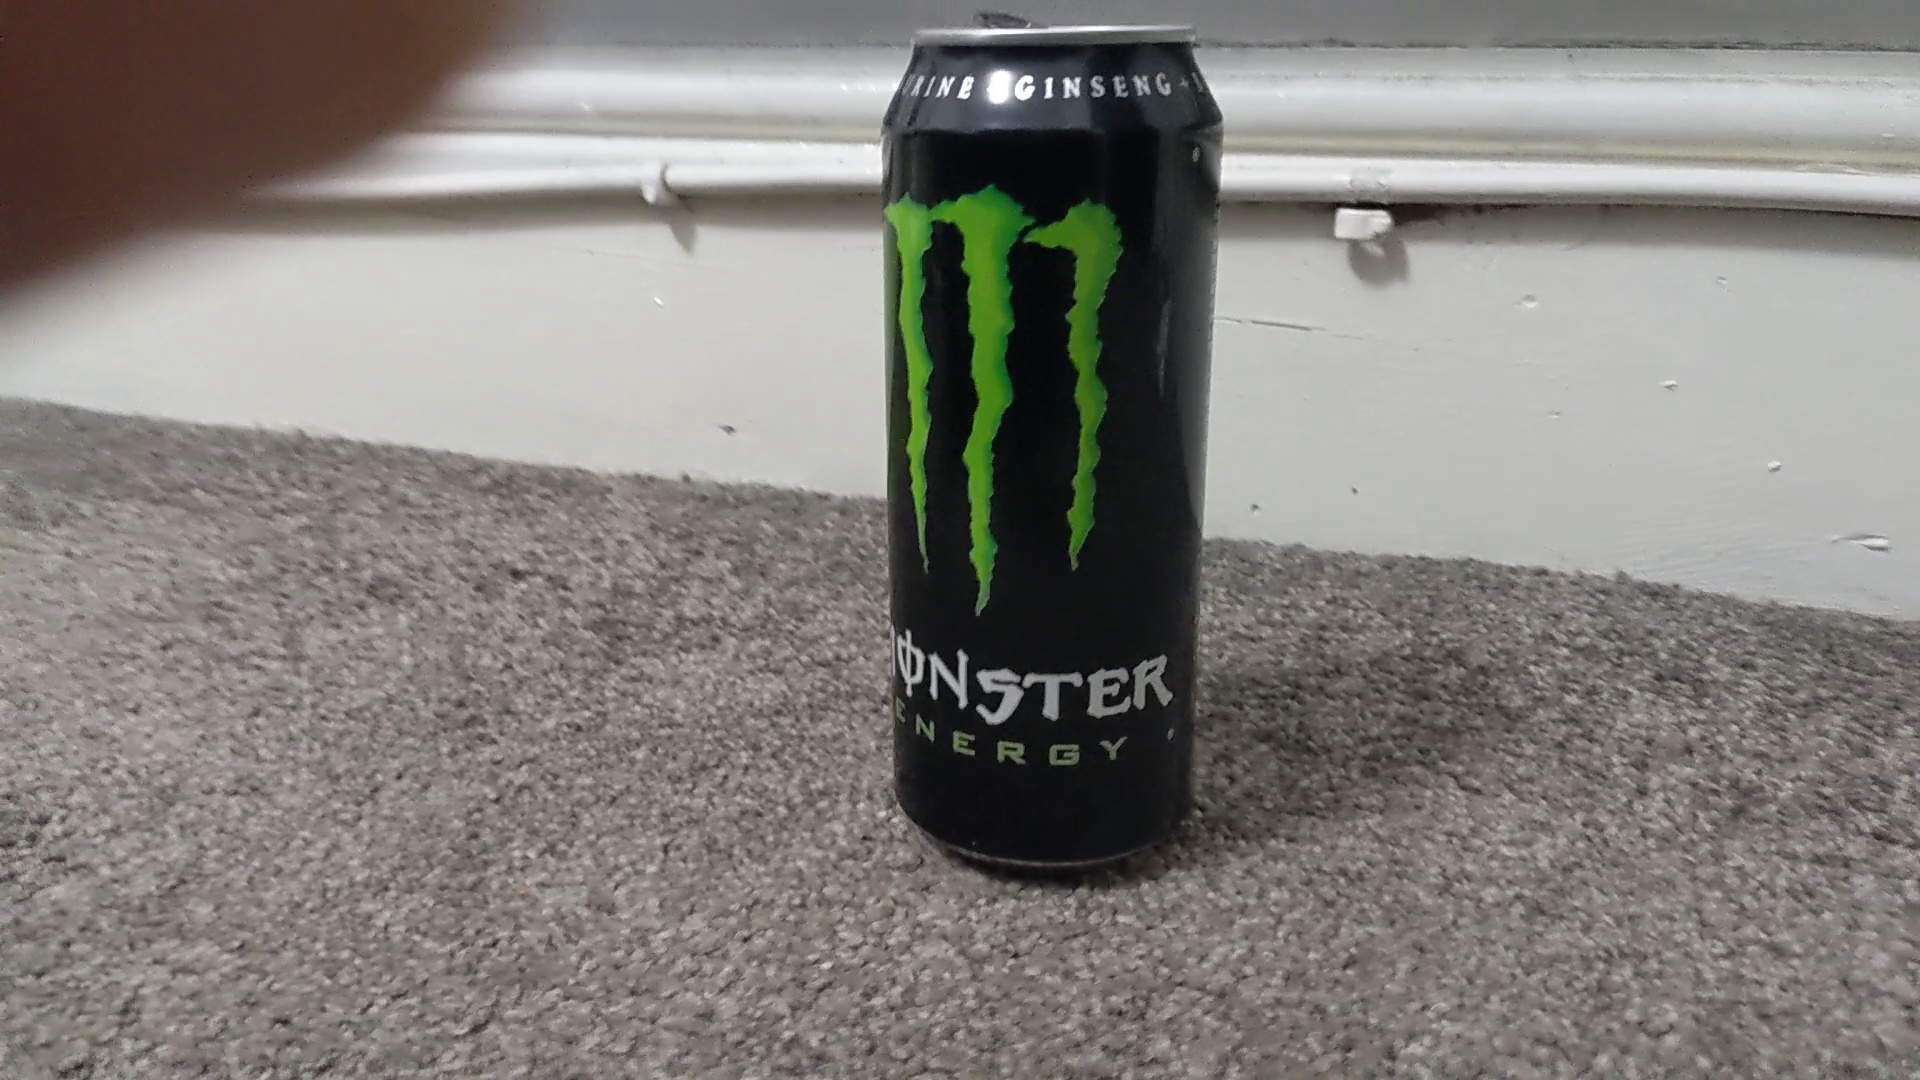monster-original: (881, 29, 1224, 872)
